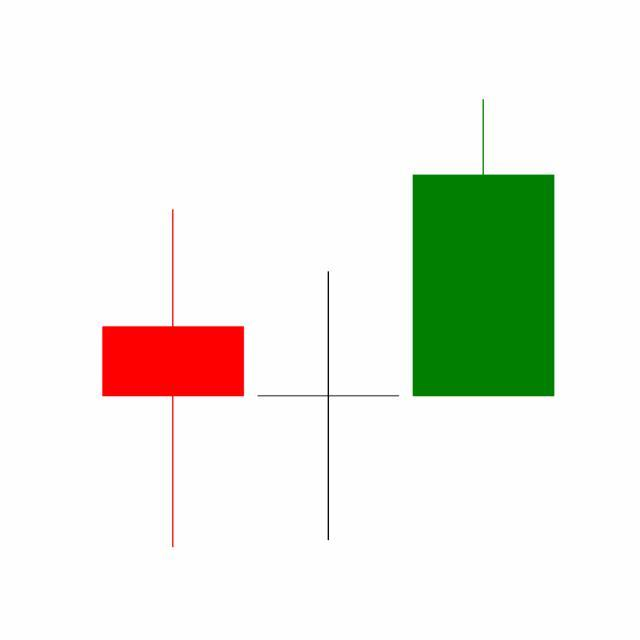Spinning Top: (250, 270, 407, 545)
